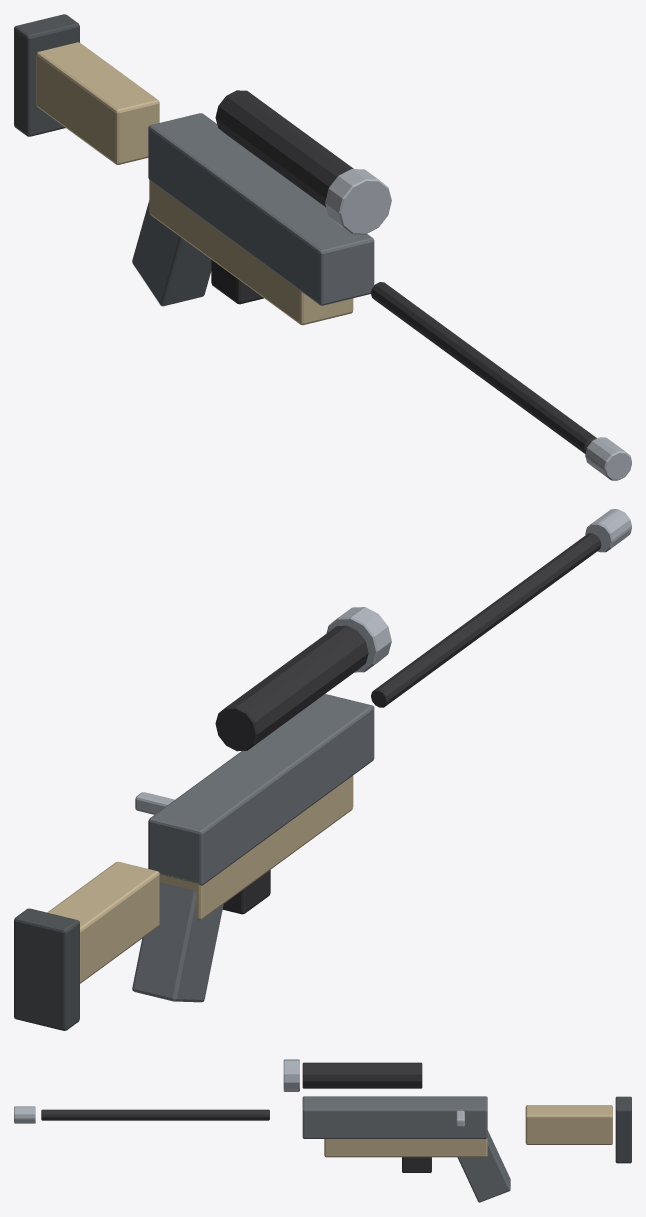
File: scout.glb
3 views of the same model, one above another, from view 1: azimuth 30°, elevation 25°; view 2: azimuth 150°, elevation 25°; view 3: azimuth 270°, elevation 25° (orthographic). The views are drawn at different scales.
Visible parts, largest first — view 1: Chassis, Stock, Scope, Lower, Barrel, Grip, Butt, ScopeObj, Brake, Mag; view 2: Chassis, Scope, Butt, Stock, Grip, Lower, Barrel, ScopeObj, Brake, Mag; view 3: Chassis, Stock, Scope, Lower, Barrel, Grip, Butt, ScopeObj, Mag, Brake.
Boxes of the visible parts, left/top/right/bottom form: Chassis: left=148, top=113, right=374, bottom=305; Stock: left=36, top=42, right=159, bottom=164; Scope: left=215, top=90, right=353, bottom=207; Lower: left=149, top=180, right=353, bottom=325; Barrel: left=371, top=282, right=596, bottom=453; Grip: left=132, top=200, right=211, bottom=306; Butt: left=14, top=14, right=79, bottom=136; ScopeObj: left=325, top=169, right=391, bottom=234; Brake: left=585, top=437, right=631, bottom=480; Mag: left=211, top=260, right=263, bottom=304; Chassis: left=148, top=694, right=374, bottom=885; Scope: left=215, top=625, right=368, bottom=751; Butt: left=14, top=908, right=79, bottom=1030; Stock: left=47, top=861, right=159, bottom=983; Grip: left=132, top=882, right=223, bottom=1002; Lower: left=159, top=775, right=353, bottom=920; Barrel: left=371, top=533, right=601, bottom=707; ScopeObj: left=326, top=607, right=391, bottom=672; Brake: left=585, top=509, right=631, bottom=552; Mag: left=222, top=870, right=270, bottom=914; Chassis: left=302, top=1096, right=487, bottom=1138; Stock: left=525, top=1105, right=612, bottom=1144; Scope: left=302, top=1062, right=422, bottom=1088; Lower: left=324, top=1138, right=487, bottom=1157; Barrel: left=41, top=1109, right=269, bottom=1120; Grip: left=457, top=1130, right=510, bottom=1202; Butt: left=615, top=1096, right=631, bottom=1163; ScopeObj: left=283, top=1059, right=299, bottom=1091; Mag: left=402, top=1157, right=431, bottom=1172; Brake: left=14, top=1106, right=35, bottom=1123.
Bounding box in the file's own units: 0.101 × 0.2768 × 1.14.
